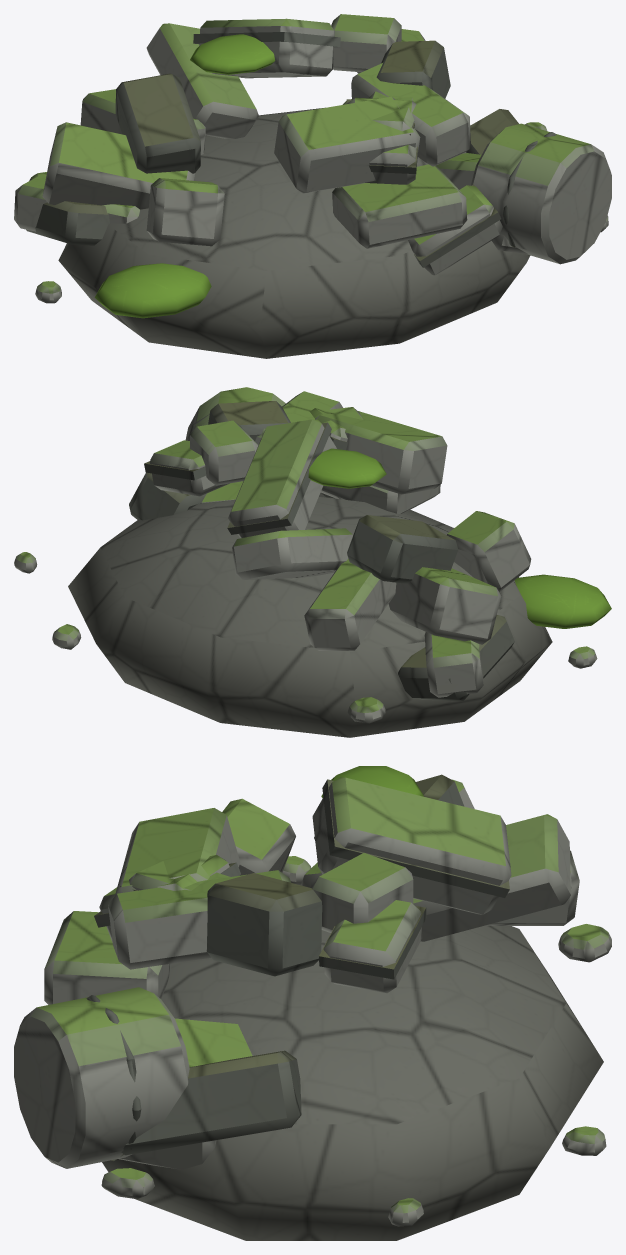
File: stone_rubble_pile.glb
The picture shows the model from 3 angles, top to bottom: view 1: azimuth 30°, elevation 25°; view 2: azimuth 150°, elevation 25°; view 3: azimuth 270°, elevation 25°; orthographic projection. The views are drawn at different scales.
Visible parts, largest first — view 1: stone_rubble_pile; view 2: stone_rubble_pile; view 3: stone_rubble_pile.
Part boxes in pixels (x1,y1,x2,y2): stone_rubble_pile: (14,14,611,358); stone_rubble_pile: (14,387,611,737); stone_rubble_pile: (14,766,611,1240).
Bounding box in the file's own units: 3.29 × 1.69 × 2.33.
Materials: 4 (4 with a texture image).
